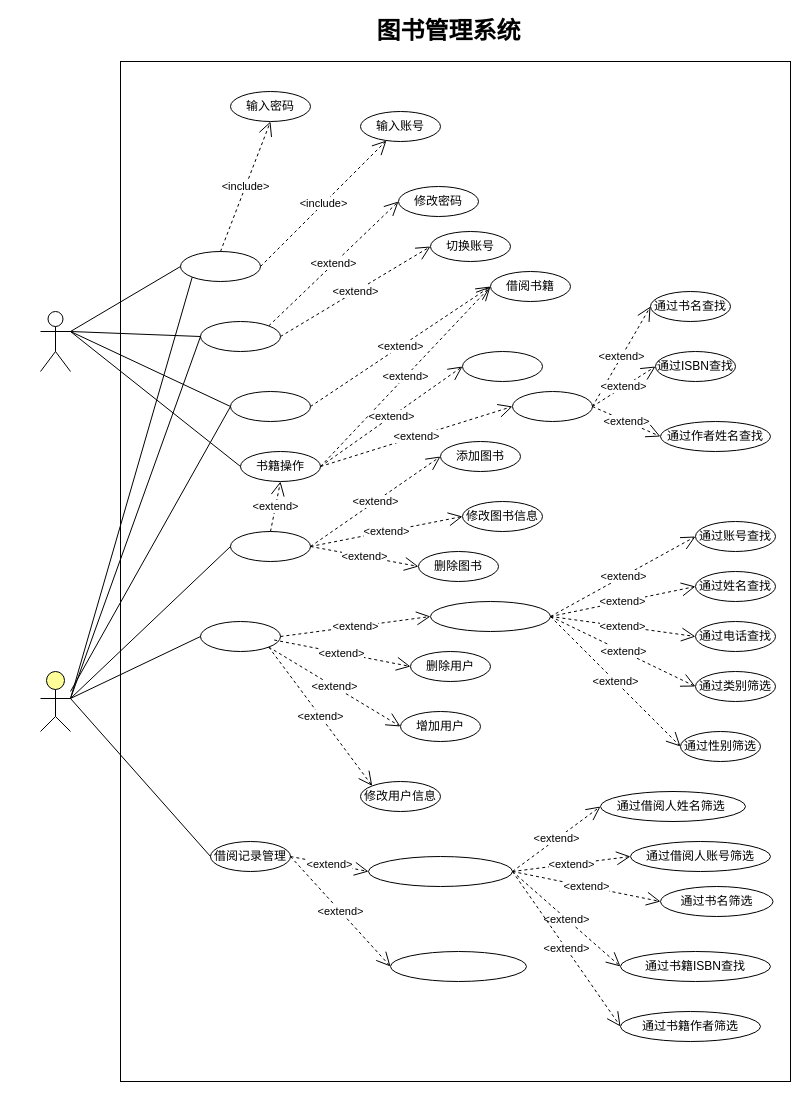
The diagram is 808 pixels wide and 1099 high, and some of its shapes have lost their labels. Here are the shapes that lost their labels. From the top down, the box of each, then its label:
(180, 250, 260, 282): 登录操作
(40, 310, 70, 372): Common User
(200, 320, 280, 352): 个人账号操作
(462, 350, 542, 382): 归还书籍
(230, 390, 310, 422): 书籍推荐
(512, 390, 592, 422): 书籍查找
(230, 530, 310, 562): 书籍管理
(200, 620, 280, 652): 用户信息管理
(430, 600, 550, 632): 用户查找和筛选
(40, 670, 70, 732): Manager
(368, 856, 512, 886): 筛选借阅记录
(390, 950, 526, 982): 查看历史借还记录
